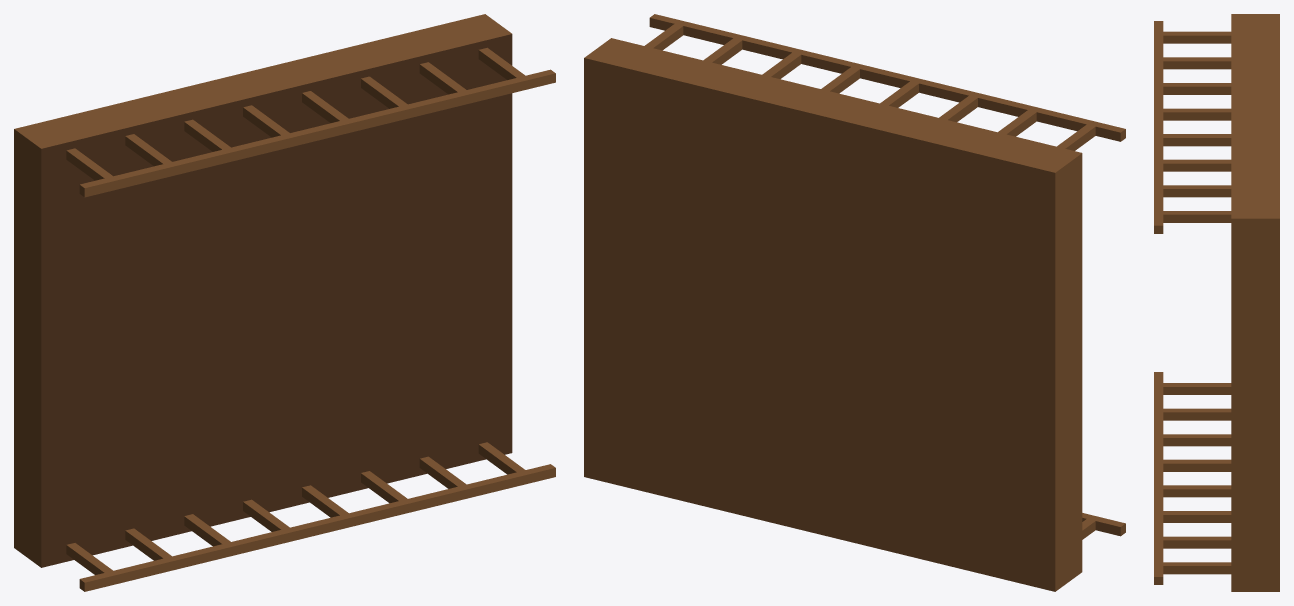
The model's file is middle.glb.
3 renders of one model, left to right at view 1: azimuth 30°, elevation 25°; view 2: azimuth 150°, elevation 25°; view 3: azimuth 270°, elevation 25°, orthographic. The views are drawn at different scales.
Visible parts, largest first — view 1: bridge_00_middle; view 2: bridge_00_middle; view 3: bridge_00_middle.
Part boxes in pixels (x1,y1,x2,y2): bridge_00_middle: [14, 14, 555, 591]; bridge_00_middle: [584, 14, 1125, 591]; bridge_00_middle: [1154, 14, 1279, 591].
Bounding box in the file's own units: 16 × 13.6 × 4.15.
